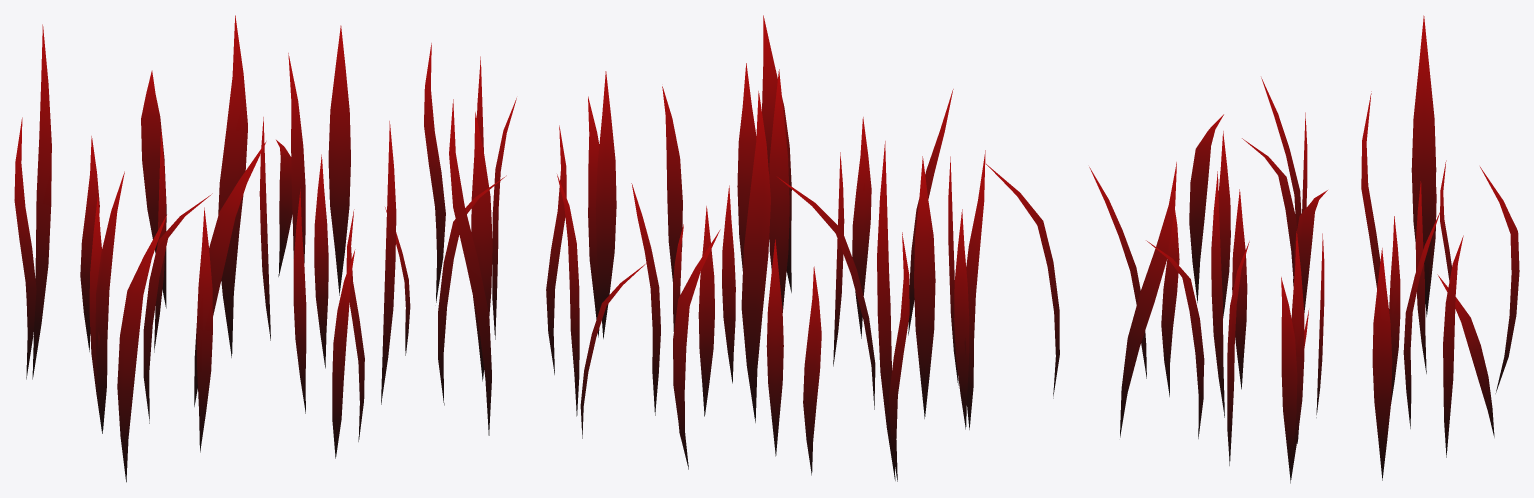
The model's file is кущ.fbx.
3 views of the same model, side by side, from view 1: azimuth 30°, elevation 25°; view 2: azimuth 150°, elevation 25°; view 3: azimuth 270°, elevation 25° (orthographic). The views are drawn at different scales.
Visible parts, largest first — view 1: Grass; view 2: Grass; view 3: Grass.
Part boxes in pixels (<box>): Grass: <box>14,15,516,482</box>; Grass: <box>546,15,1059,481</box>; Grass: <box>1089,15,1519,483</box>.
Size of the model in its own units: 11.33 by 8.74 by 10.9.
